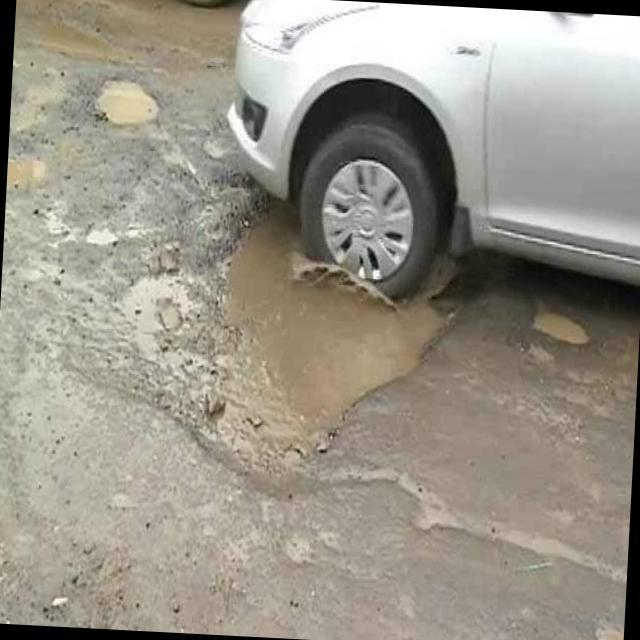Pothole: (162, 123, 516, 481), (6, 25, 81, 206), (71, 75, 169, 143), (499, 294, 590, 351)
